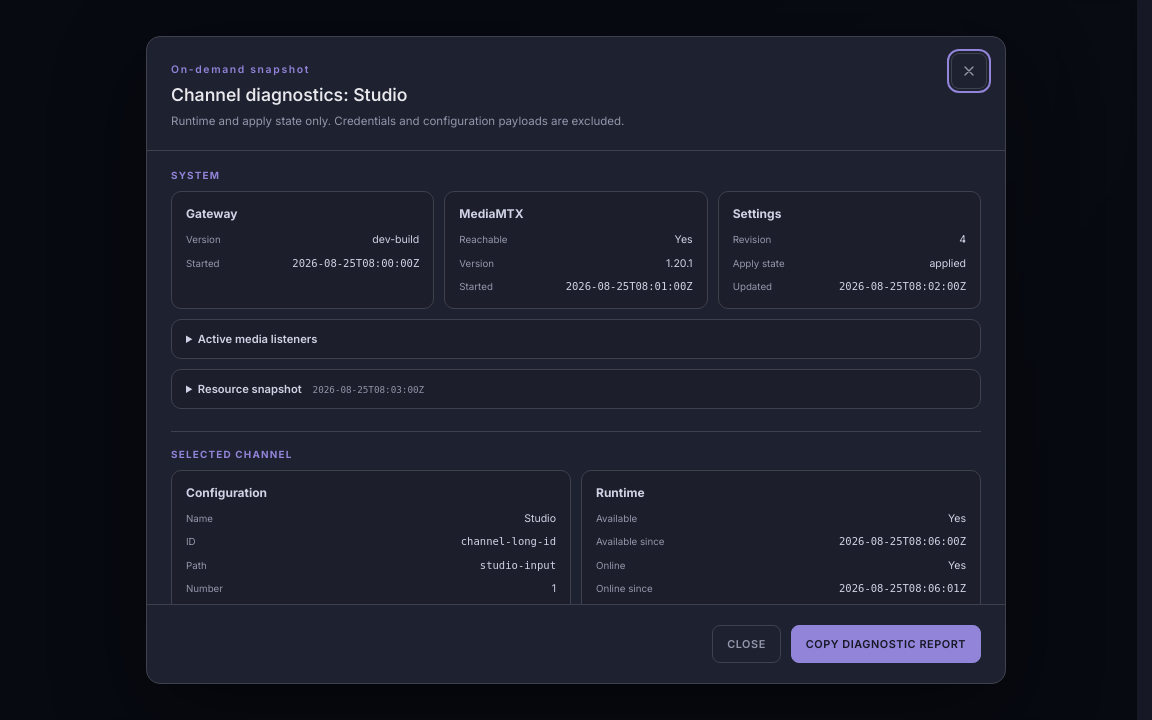
Test case: DiagnosticsDialog › copies only explicitly allowlisted diagnostic fields
Click the button "Copy diagnostic report": (886, 644) [791,625,981,663]
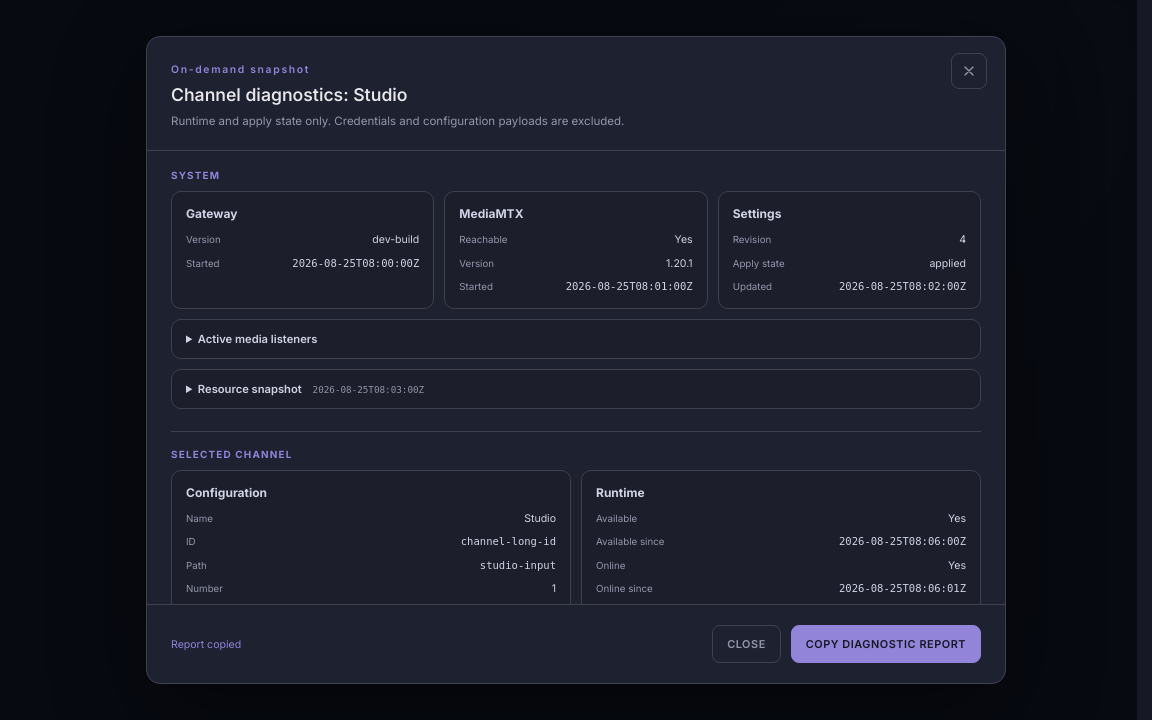
Expected: the message reads "Report copied", [171,638,241,650]
